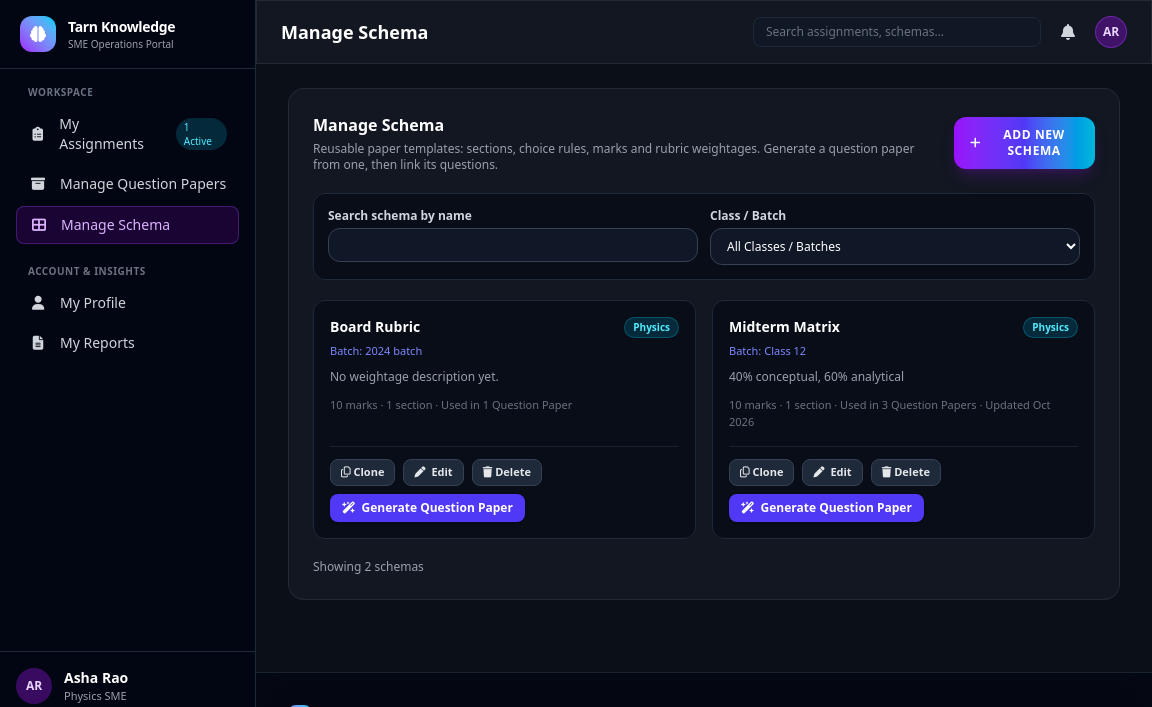
Test: Manage Schema › clones a schema under a new name, batch and weightage
The image size is (1152, 707).
Step 1. Click the button with aria-label "Clone Midterm Matrix" → [762, 472], box [729,459,794,486]
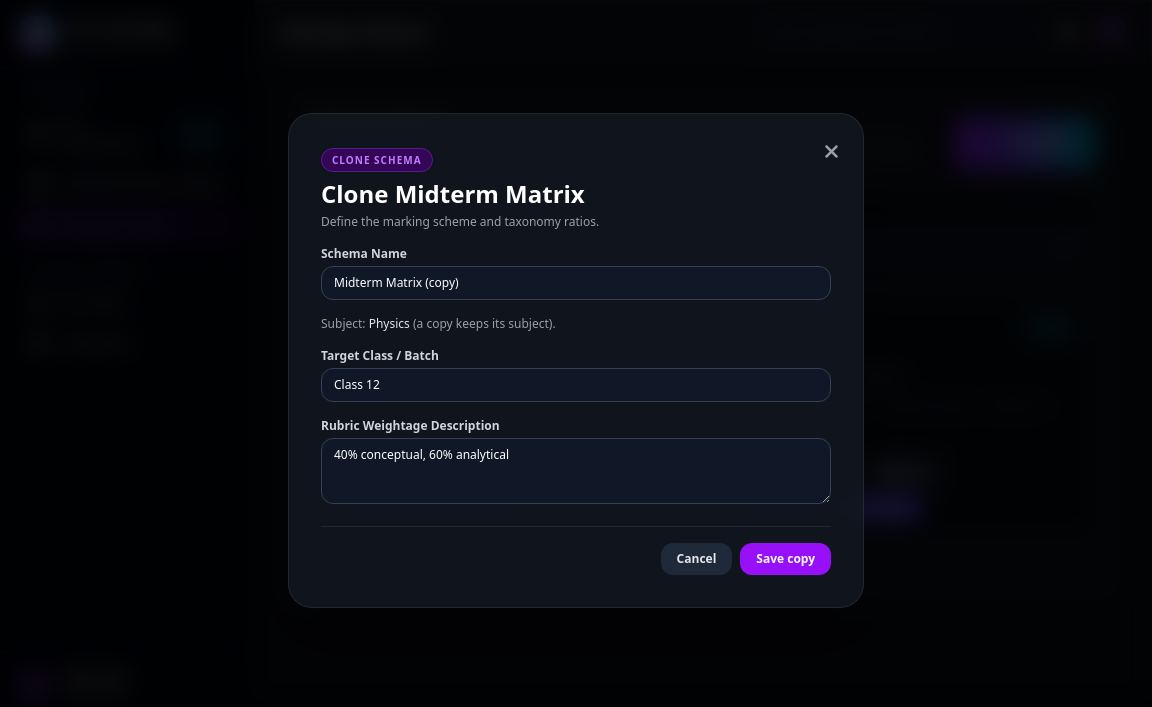
Check: the field labelled "Schema Name" holds "Midterm Matrix (copy)"
Step 2. Replace the text in the field labelled "Schema Name" with "Matrix B" → [576, 282], box [321,266,831,300]
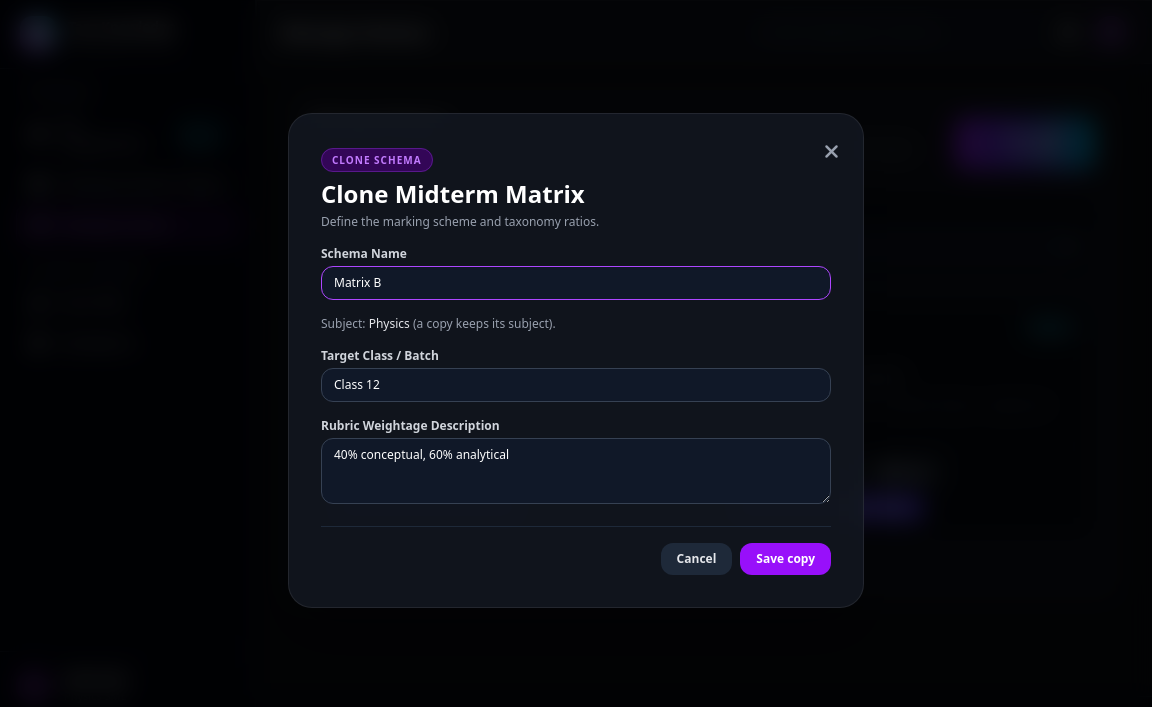
Step 3. Click the button "Save copy" → [786, 558], box [740,542,831,574]
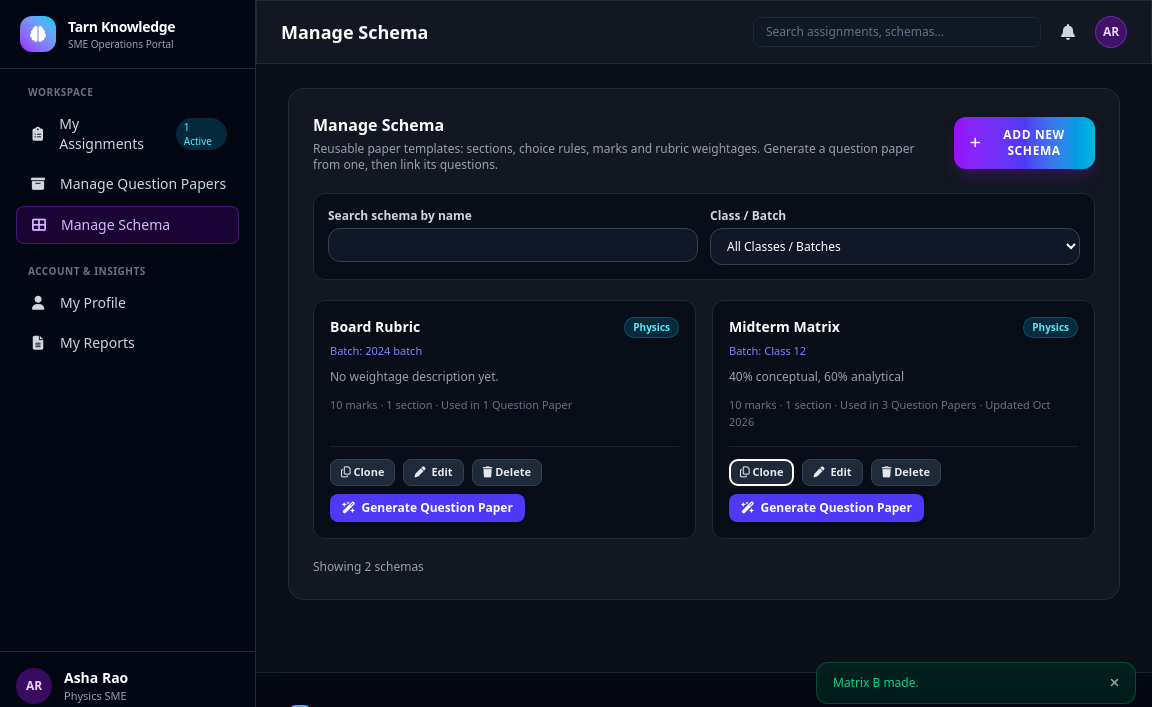
Check: the text "Matrix B made." is shown, box [833,674,919,691]
Check: the dialog is gone
